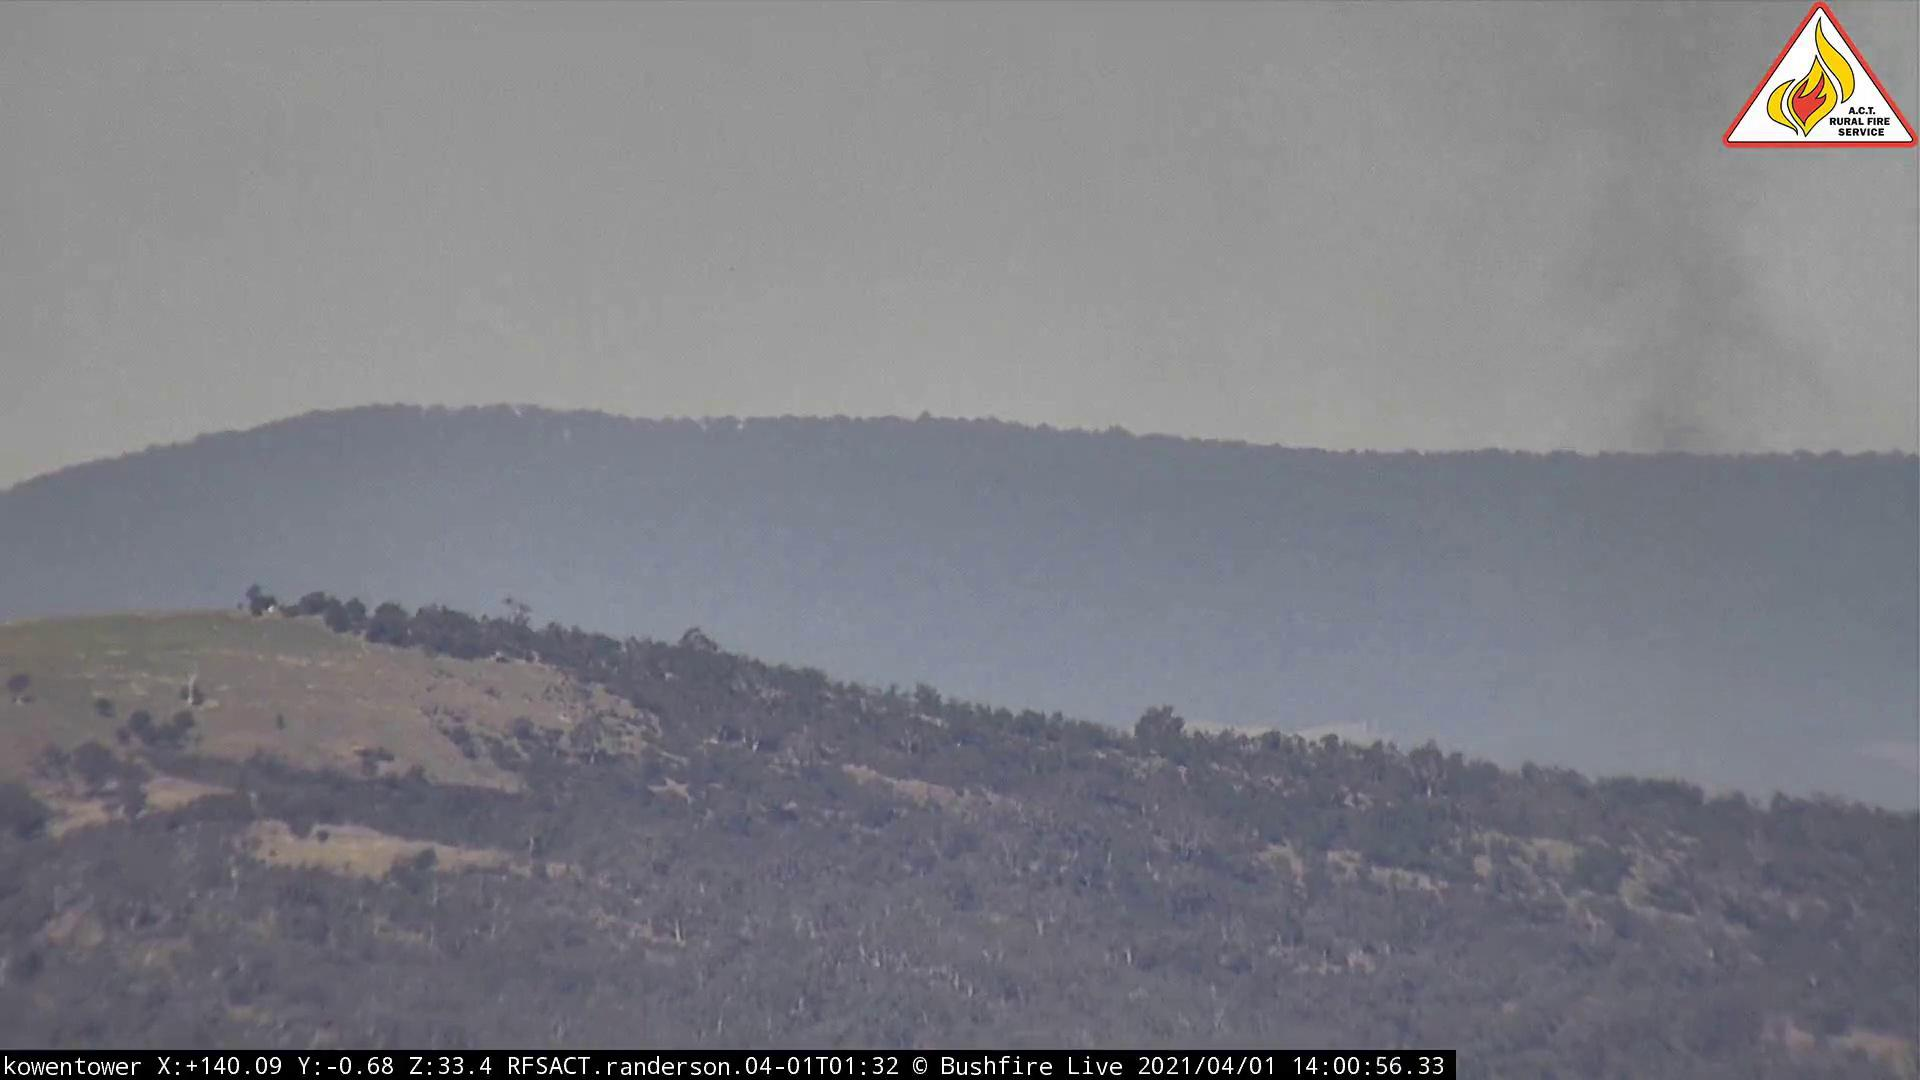instance_salient_object: (1182, 3, 1859, 800)
